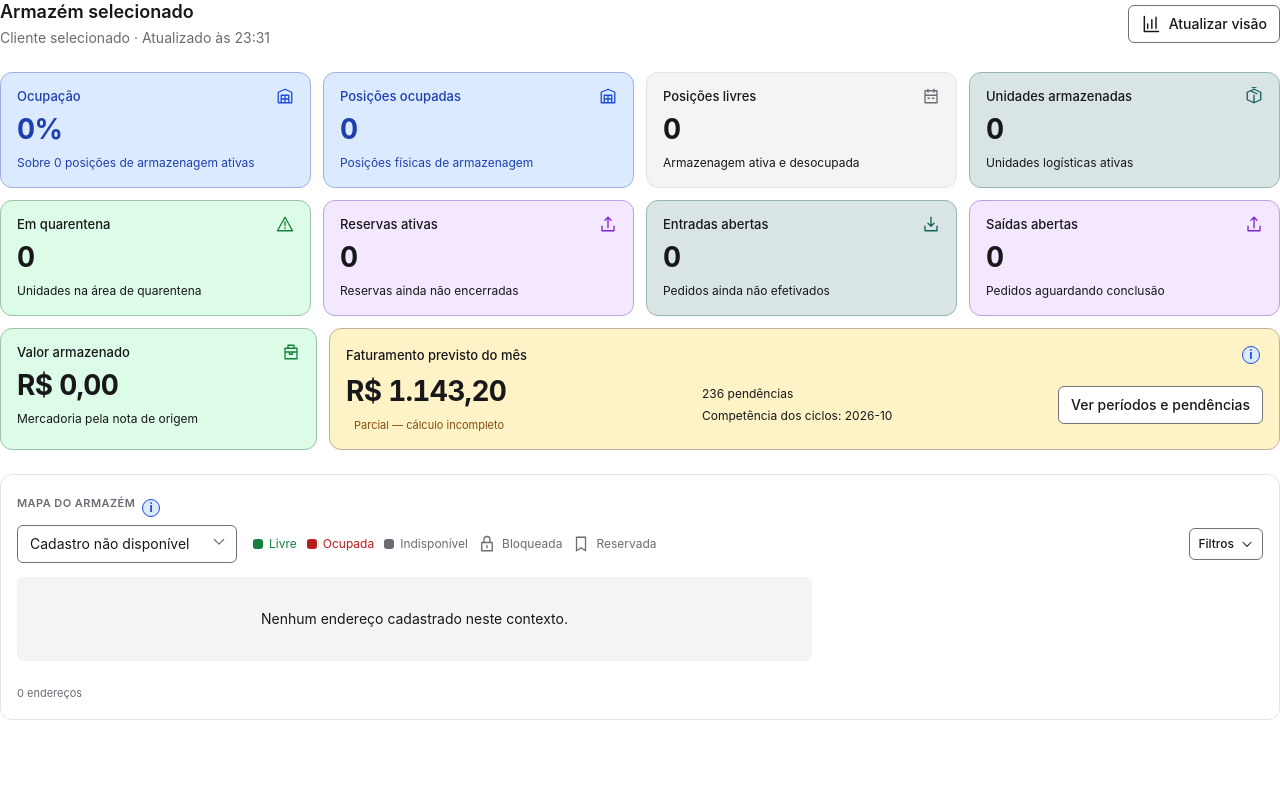
Scenario: destaca o conhecido 1143.20 como parcial e mantém o total incompleto indisponível
Expected: the text "Parcial — cálculo incompleto" is shown, [346,415,512,435]
Expected: the text "R$ 1.143,20" is shown, [346,374,506,408]
Click the button "Ver períodos e pendências". click: (1160, 405)
box: [1058,386,1263,424]
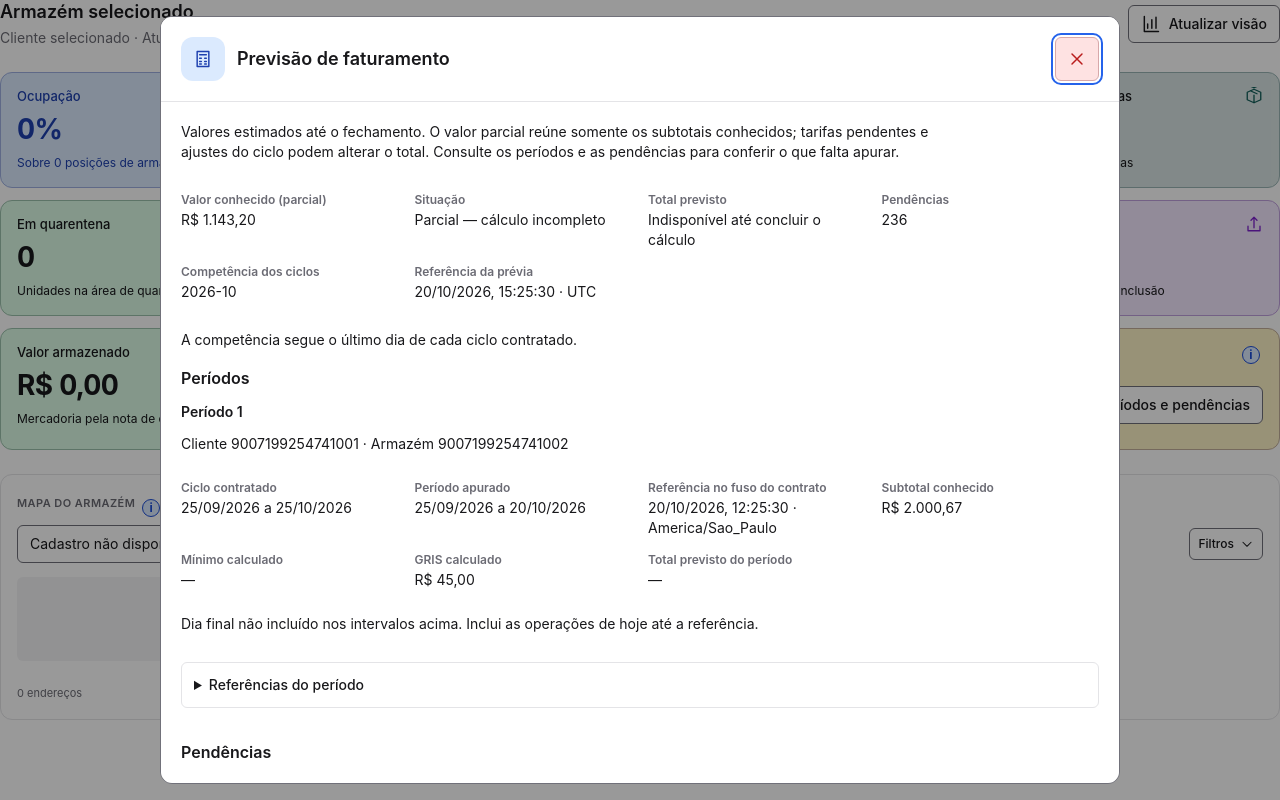
Expected: the element showing "Valor conhecido (parcial) R$ 1.143,20" is shown, [181,192,327,228]
